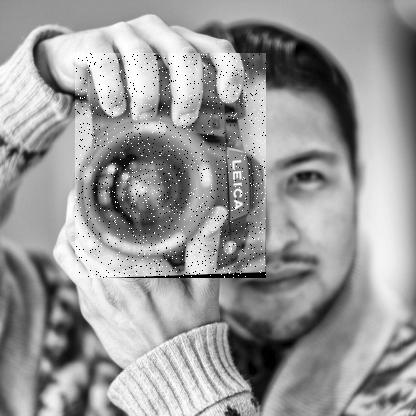Camera: (76, 54, 268, 280)
